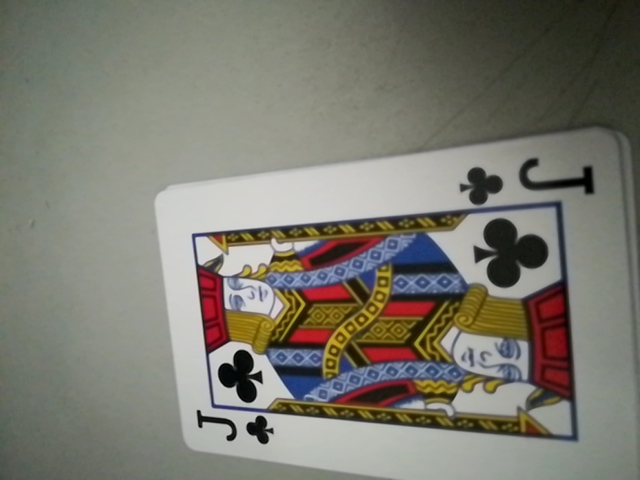mh j: (457, 150, 596, 209), (192, 405, 277, 455)
